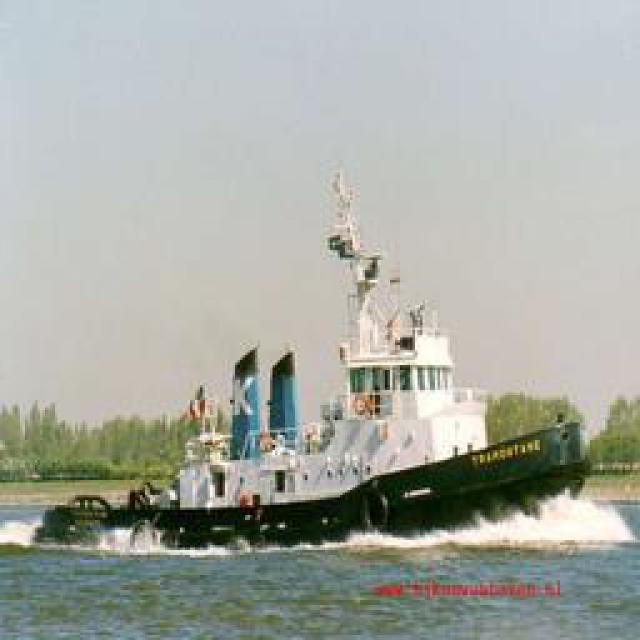Ship: (89, 255, 589, 533)
